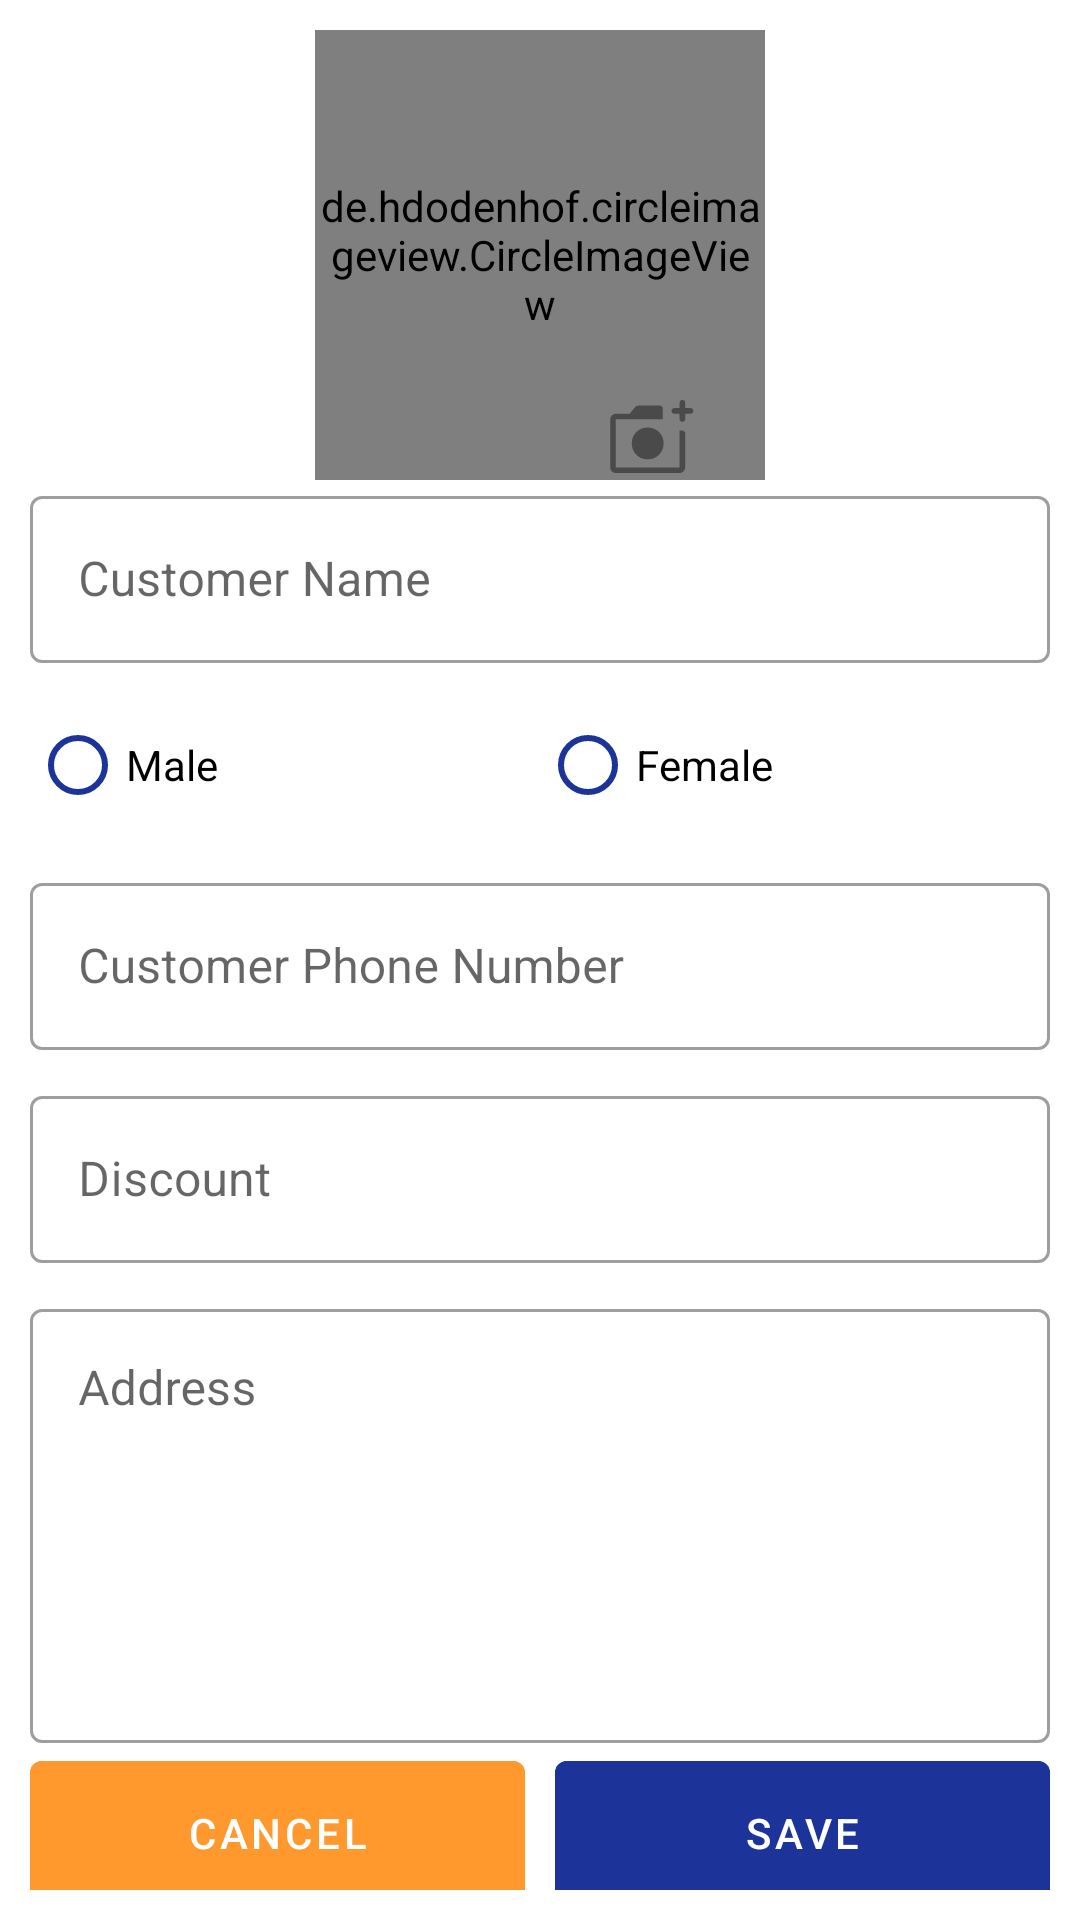

Icon click points for this 1080px x 1920px phone screenshot, format (x,y):
add profile: (651,436)
